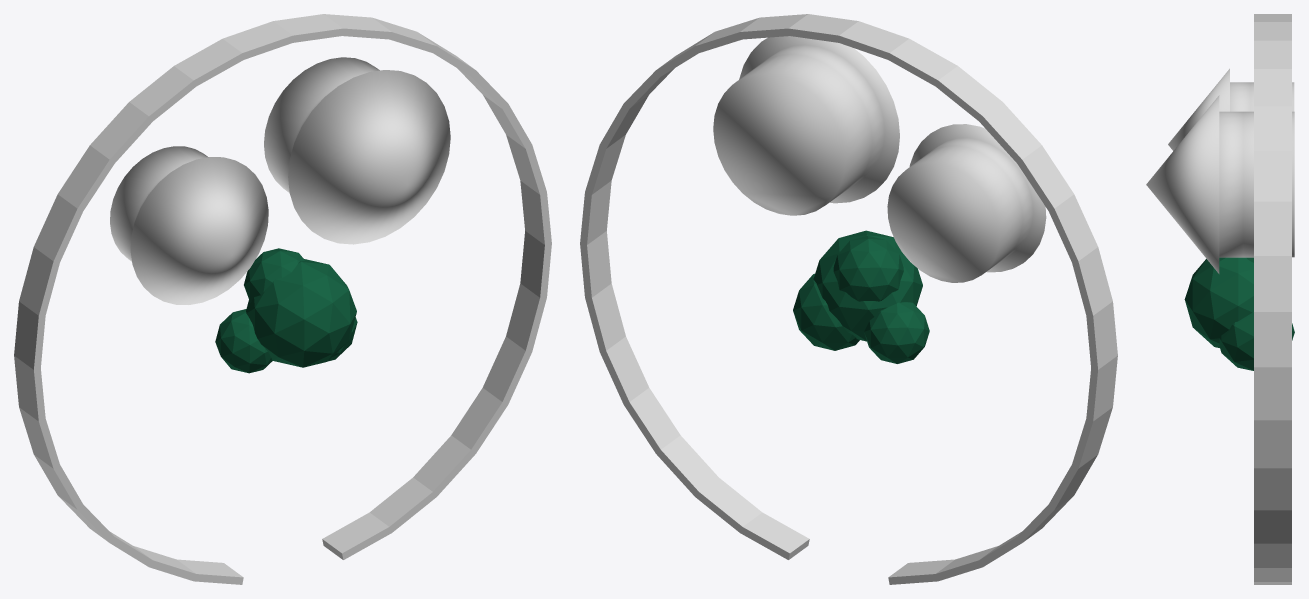
The model's file is model-data.glb.
The picture shows the model from 3 angles, left to right: view 1: azimuth 30°, elevation 25°; view 2: azimuth 150°, elevation 25°; view 3: azimuth 270°, elevation 25°; orthographic projection. The views are drawn at different scales.
Parts seen in each view (by area): view 1: Camp, Bushes; view 2: Camp, Bushes; view 3: Camp, Bushes.
Part boxes in pixels (box(x1,y1,x2,y2)): Camp: box(14, 14, 551, 584); Bushes: box(215, 248, 357, 373); Camp: box(580, 14, 1117, 584); Bushes: box(793, 230, 929, 363); Camp: box(1146, 14, 1294, 584); Bushes: box(1184, 257, 1294, 370).
Size of the model in its own units: 1.91 by 1.89 by 0.4962.
